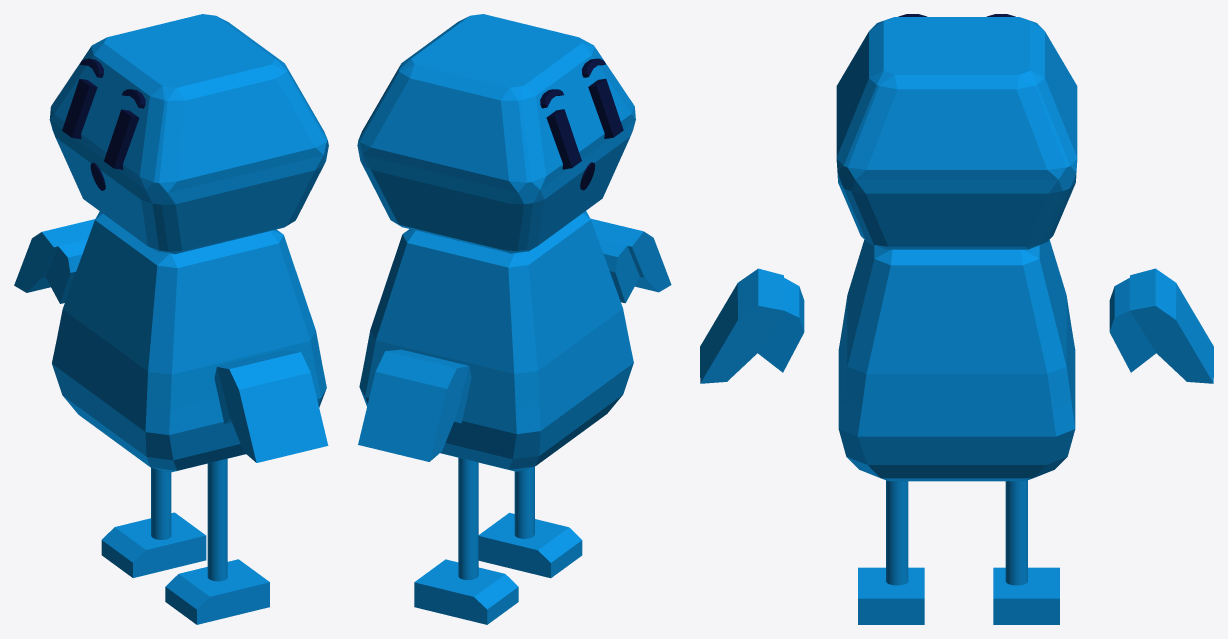
The model's file is player_blue.gltf.
3 renders of one model, left to right at view 1: azimuth 30°, elevation 25°; view 2: azimuth 150°, elevation 25°; view 3: azimuth 270°, elevation 25°, orthographic. The views are drawn at different scales.
Parts seen in each view (by area): view 1: head, body, hand right, foot right, foot left, hand left, leg right, leg left, Cube.001, Cube; view 2: head, body, hand left, foot left, foot right, hand right, leg left, leg right, Cube, Cube.001; view 3: body, head, hand right, hand left, foot left, foot right, leg left, leg right.
Part boxes in pixels (x1,y1,x2,y2): head: [49, 14, 328, 254]; body: [52, 211, 326, 472]; hand right: [214, 350, 328, 462]; foot right: [165, 559, 269, 624]; foot left: [101, 512, 206, 577]; hand left: [14, 219, 94, 303]; leg right: [207, 458, 227, 581]; leg left: [151, 467, 171, 539]; Cube.001: [62, 78, 97, 139]; Cube: [104, 109, 139, 169]; head: [357, 14, 635, 253]; body: [359, 211, 633, 471]; hand left: [358, 349, 471, 461]; foot left: [414, 559, 518, 624]; foot right: [478, 512, 582, 578]; hand right: [591, 218, 671, 303]; leg left: [458, 457, 478, 579]; leg right: [514, 466, 534, 538]; Cube: [588, 78, 623, 138]; Cube.001: [546, 109, 581, 169]; body: [838, 240, 1075, 481]; head: [836, 17, 1077, 249]; hand right: [700, 268, 804, 383]; hand left: [1109, 268, 1213, 383]; foot left: [993, 567, 1059, 624]; foot right: [858, 567, 924, 624]; leg left: [1005, 480, 1027, 585]; leg right: [886, 480, 908, 585].
Size of the model in its own units: 1.82 by 4.76 by 3.95.
